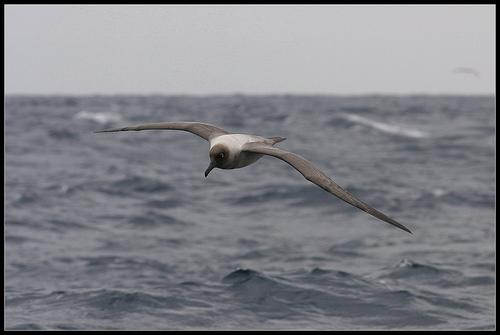003.Sooty_Albatross: (91, 120, 412, 237)
